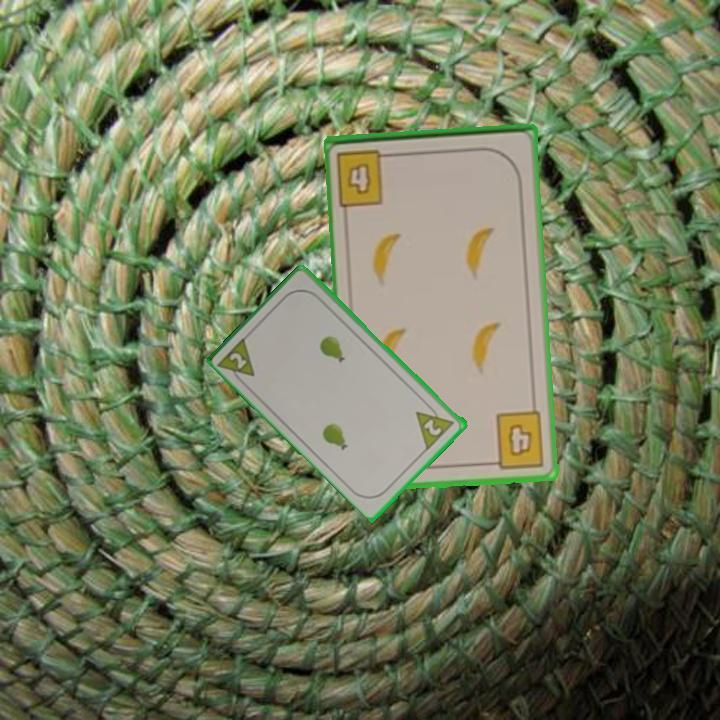2p: (412, 398, 458, 452), (215, 332, 258, 389)
4b: (333, 145, 399, 209), (485, 408, 547, 471)
